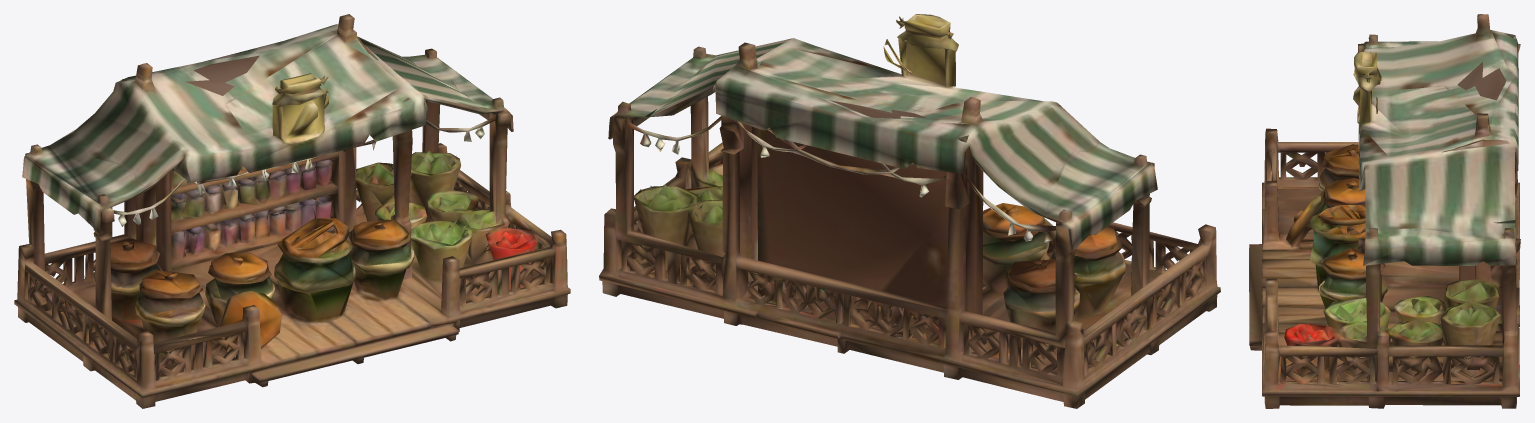
The model's file is yancai-3.glb.
3 renders of one model, left to right at view 1: azimuth 30°, elevation 25°; view 2: azimuth 150°, elevation 25°; view 3: azimuth 270°, elevation 25°, orthographic. The views are drawn at different scales.
Visible parts, largest first — view 1: node_0; view 2: node_0; view 3: node_0.
Part boxes in pixels (box(x1,y1,x2,y2)): node_0: box(14, 14, 570, 408); node_0: box(599, 14, 1220, 408); node_0: box(1249, 14, 1520, 408).
Bounding box in the file's own units: 0.9618 × 0.5207 × 0.5253.
1 material, 1 textured.
